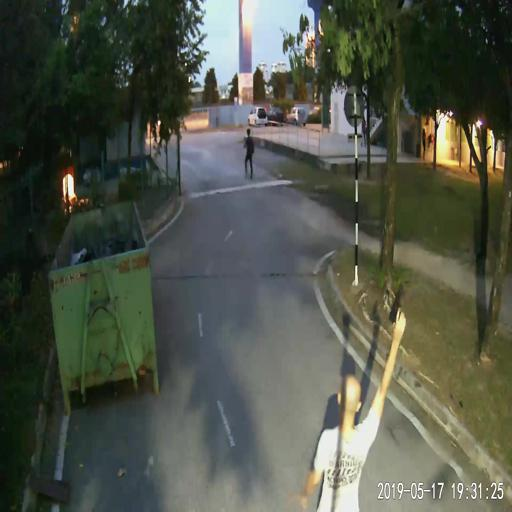pistol: (388, 283, 407, 328)
